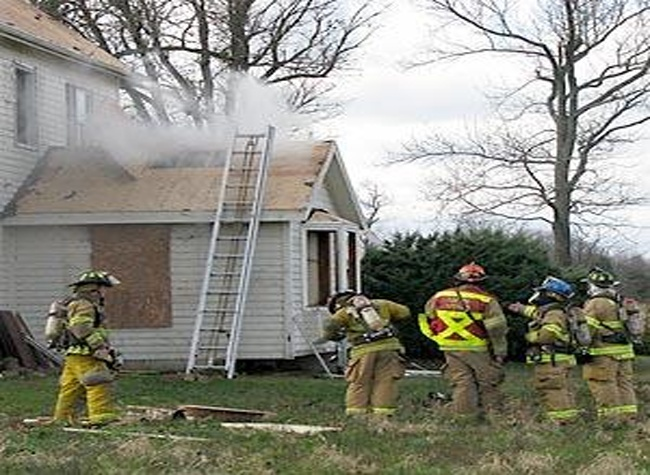Smoke: (97, 86, 299, 157)
